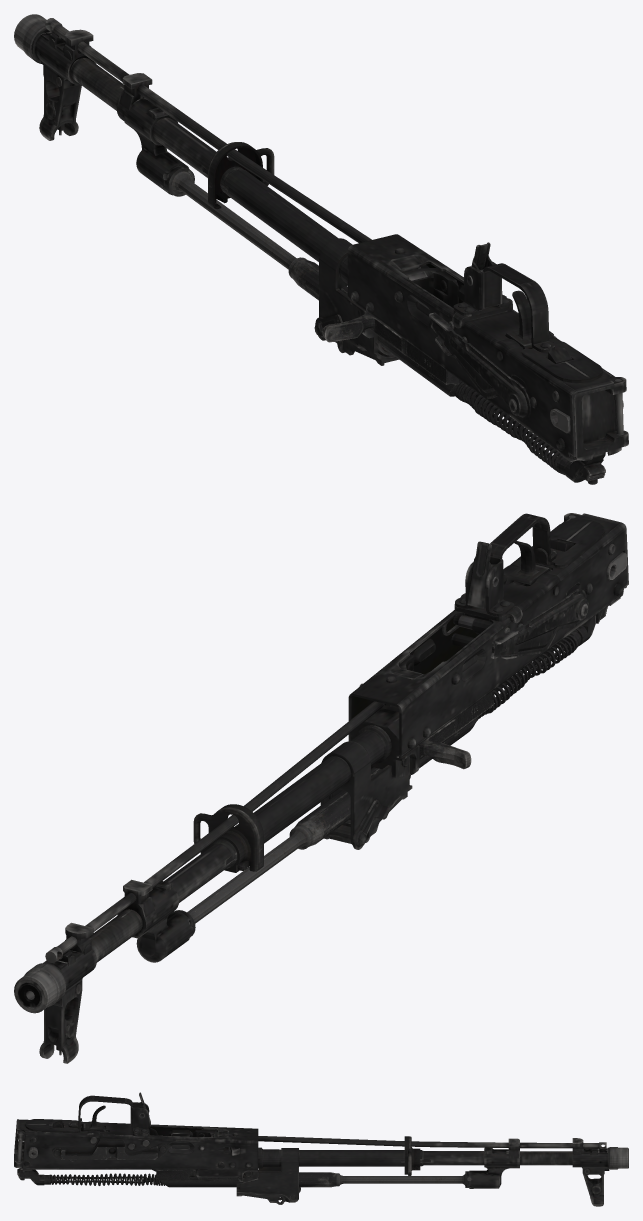
The picture shows the model from 3 angles, top to bottom: view 1: azimuth 30°, elevation 25°; view 2: azimuth 150°, elevation 25°; view 3: azimuth 270°, elevation 25°; orthographic projection. The views are drawn at different scales.
Visible parts, largest first — view 1: TW_5ac4cd105acfc40016339859_PZ_Import; view 2: TW_5ac4cd105acfc40016339859_PZ_Import; view 3: TW_5ac4cd105acfc40016339859_PZ_Import.
Boxes of the visible parts, <box> form: TW_5ac4cd105acfc40016339859_PZ_Import: <box>14,14,628,484</box>; TW_5ac4cd105acfc40016339859_PZ_Import: <box>14,513,628,1063</box>; TW_5ac4cd105acfc40016339859_PZ_Import: <box>14,1092,628,1206</box>.
Size of the model in its own units: 0.0424 by 0.373 by 0.0735.
Materials: 1 (1 with a texture image).
